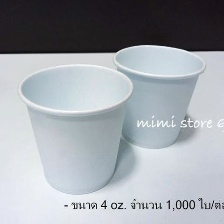paper_cup: (13, 59, 136, 198), (106, 40, 209, 152)
